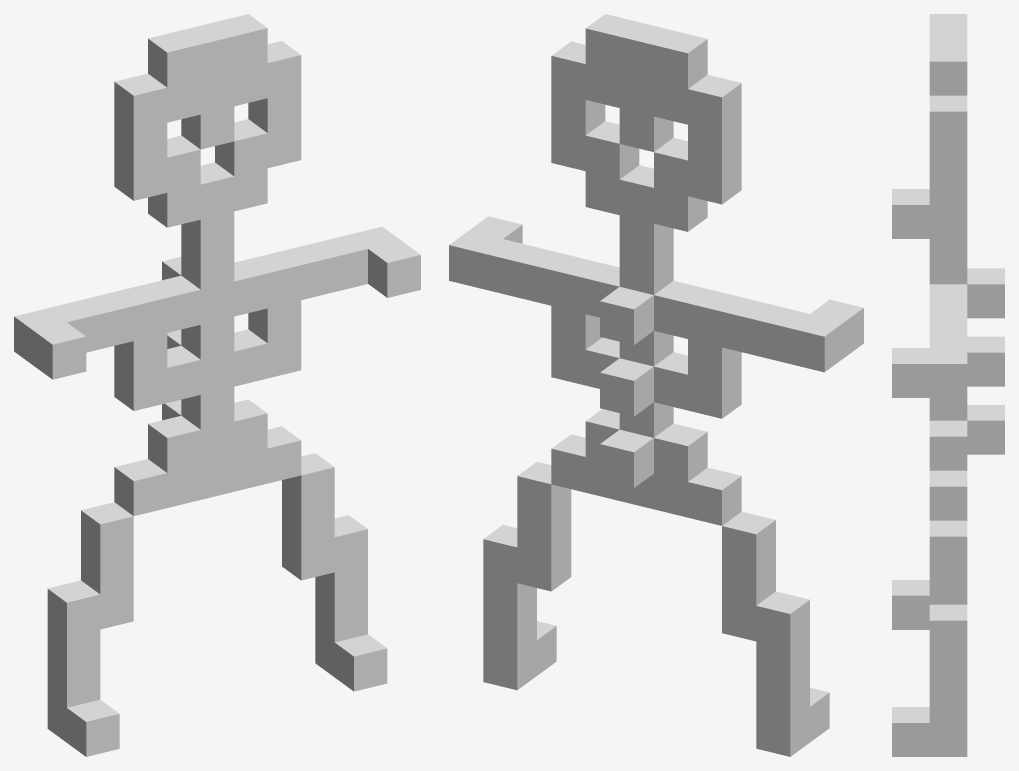
Rendered from skeleton.gltf.
3 renders of one model, left to right at view 1: azimuth 30°, elevation 25°; view 2: azimuth 150°, elevation 25°; view 3: azimuth 270°, elevation 25°, orthographic. The views are drawn at different scales.
Visible parts, largest first — view 1: Node; view 2: Node; view 3: Node.
Boxes of the visible parts, x1,y1,x2,y2 form: Node: (14,14,420,756); Node: (449,14,863,756); Node: (892,14,1004,756).
Size of the model in its own units: 1.1 by 1.9 by 0.3.
1 material, 1 textured.
